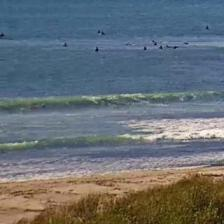surfer: (204, 25, 212, 31), (0, 32, 7, 38), (125, 42, 133, 47), (151, 42, 159, 47), (165, 44, 173, 49), (94, 47, 100, 53), (183, 41, 190, 46), (62, 43, 69, 48), (100, 31, 106, 36), (96, 29, 102, 34), (143, 46, 148, 52), (172, 46, 179, 50), (159, 46, 165, 50)
